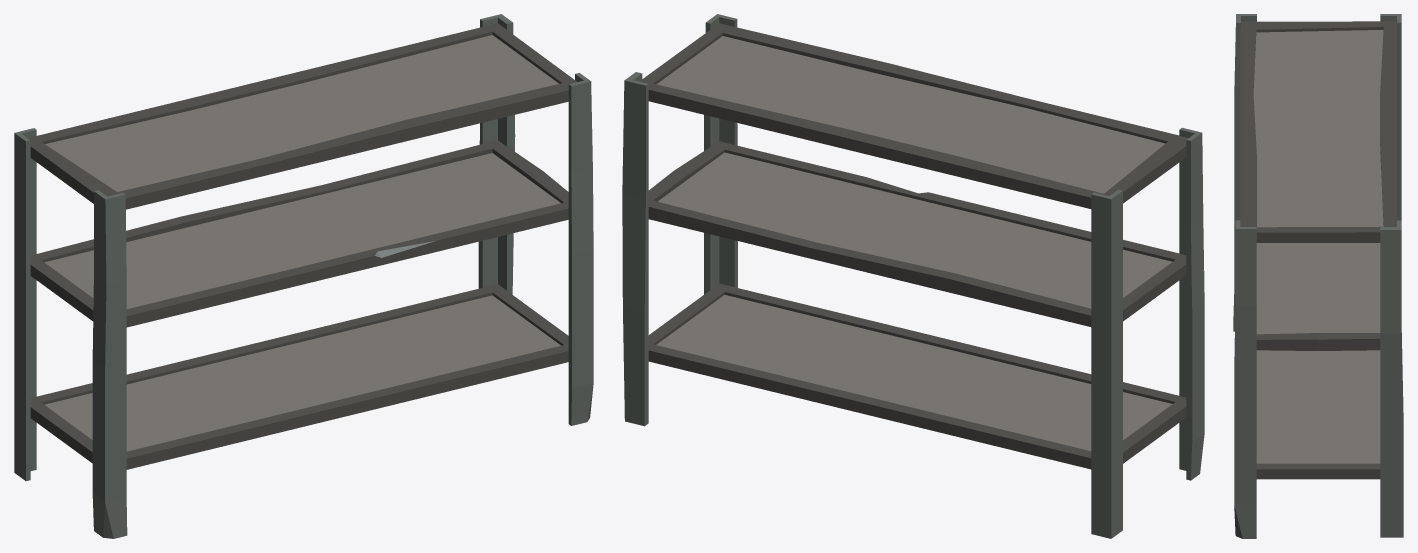
The model's file is SM_Rack_A.gltf.
3 renders of one model, left to right at view 1: azimuth 30°, elevation 25°; view 2: azimuth 150°, elevation 25°; view 3: azimuth 270°, elevation 25°, orthographic. The views are drawn at different scales.
Parts seen in each view (by area): view 1: SM_Rack_A; view 2: SM_Rack_A; view 3: SM_Rack_A.
Part boxes in pixels (box(x1,y1,x2,y2)): SM_Rack_A: box(14, 14, 593, 538); SM_Rack_A: box(622, 14, 1204, 538); SM_Rack_A: box(1233, 14, 1403, 538).
Size of the model in its own units: 3.02 by 2 by 1.
1 material, 1 textured.
